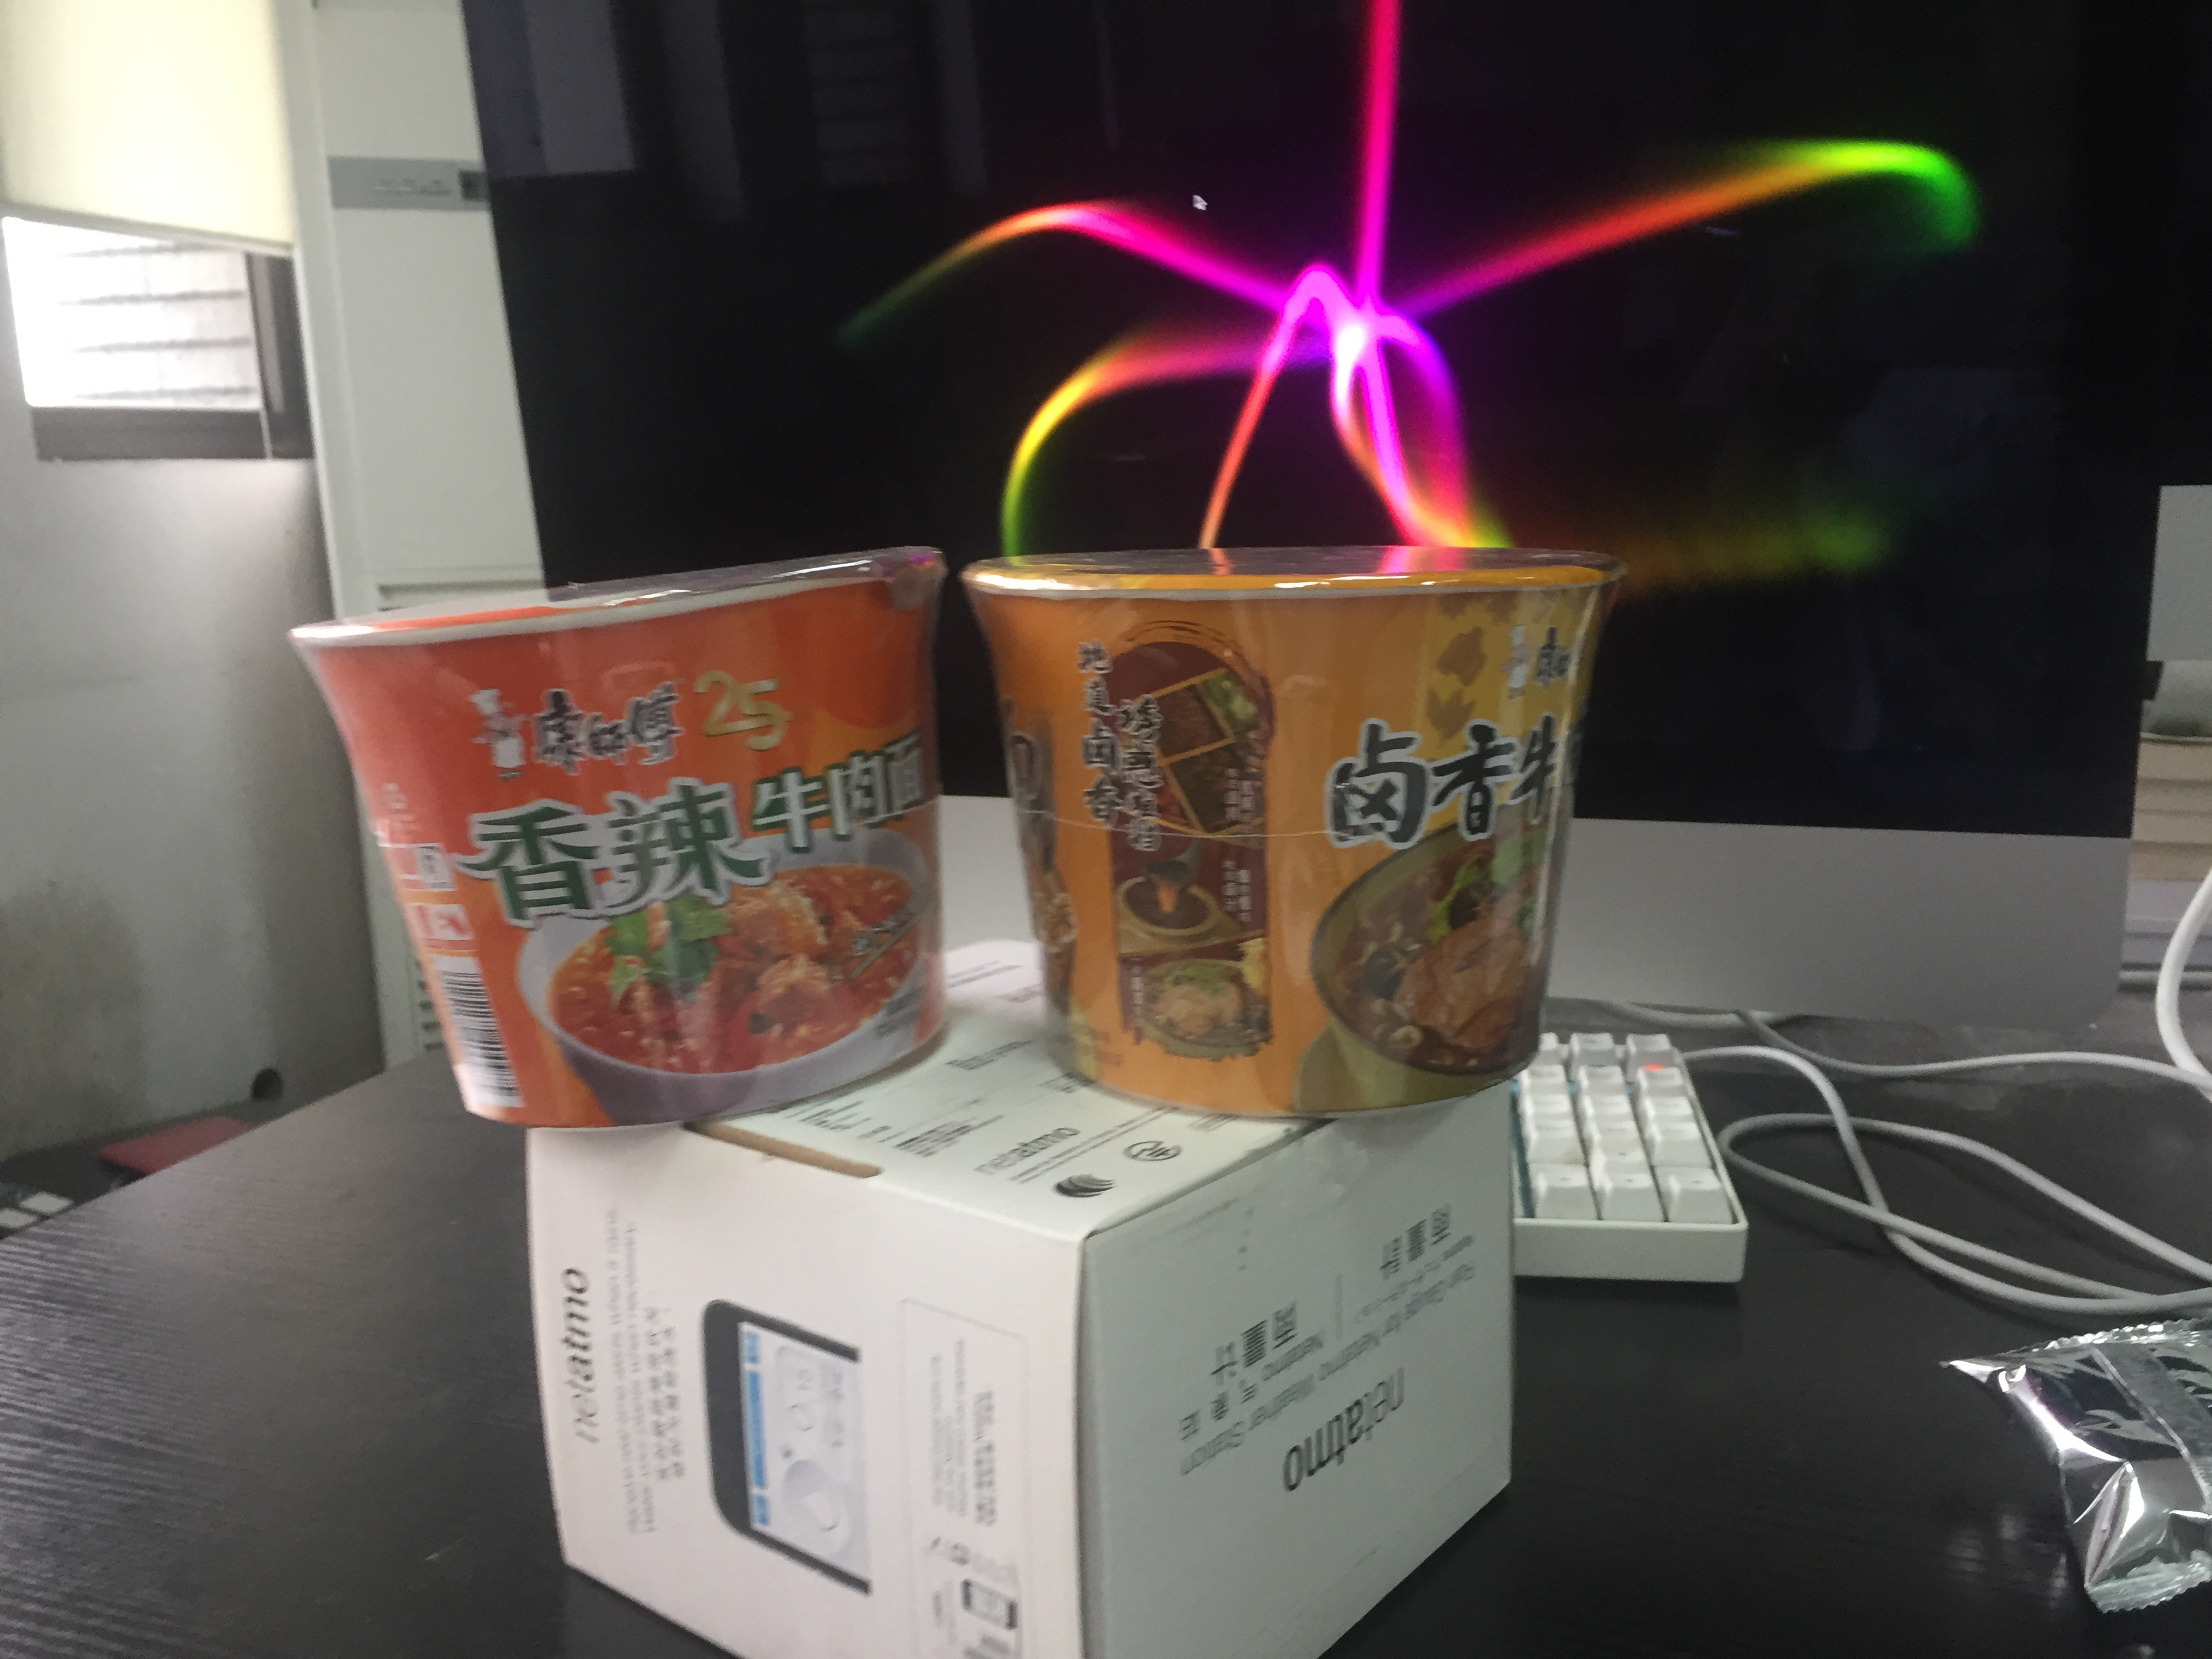luxiang: (960, 544, 1630, 1121)
xiangla: (282, 540, 948, 1133)
